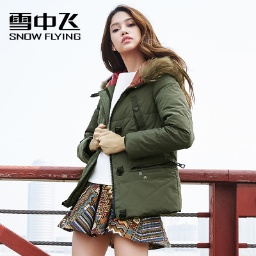face: (96, 3, 194, 85)
